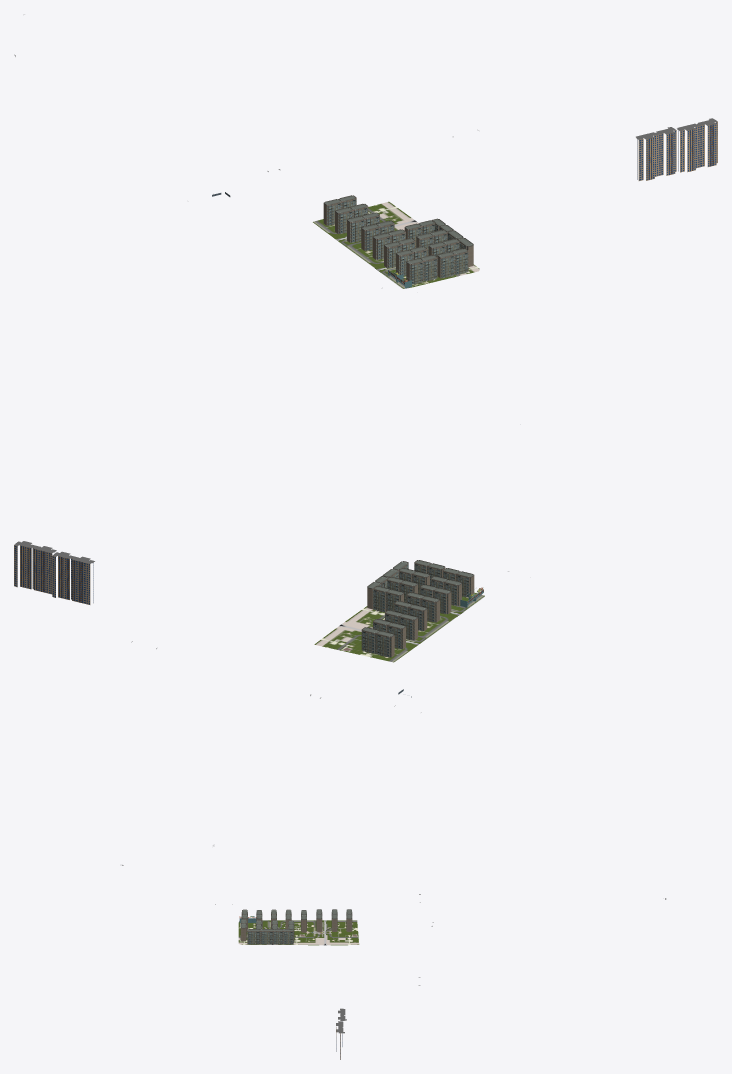
Rendered from NoLod_26.glb.
3 views of the same model, one above another, from view 1: azimuth 30°, elevation 25°; view 2: azimuth 150°, elevation 25°; view 3: azimuth 270°, elevation 25° (orthographic). The views are drawn at different scales.
Visible parts, largest first — view 1: rtc; view 2: rtc; view 3: rtc.
Boxes of the visible parts, box(x1,y1,x2,y2) form: rtc: box(14, 14, 717, 288); rtc: box(14, 541, 508, 865); rtc: box(215, 894, 666, 1059).
Size of the model in its own units: 863 by 82.63 by 1753.
Materials: 13 (13 with a texture image).
